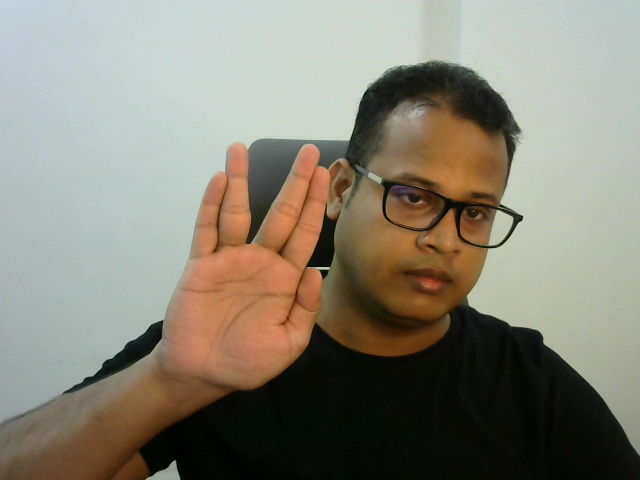LongLive: (163, 140, 332, 390)
